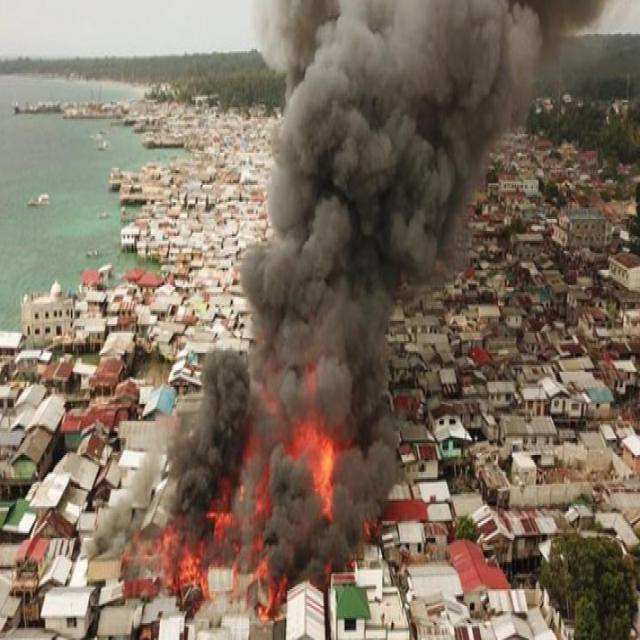Fire: (158, 392, 384, 608)
Smoke: (256, 0, 601, 110), (263, 134, 495, 296), (248, 238, 369, 506)
